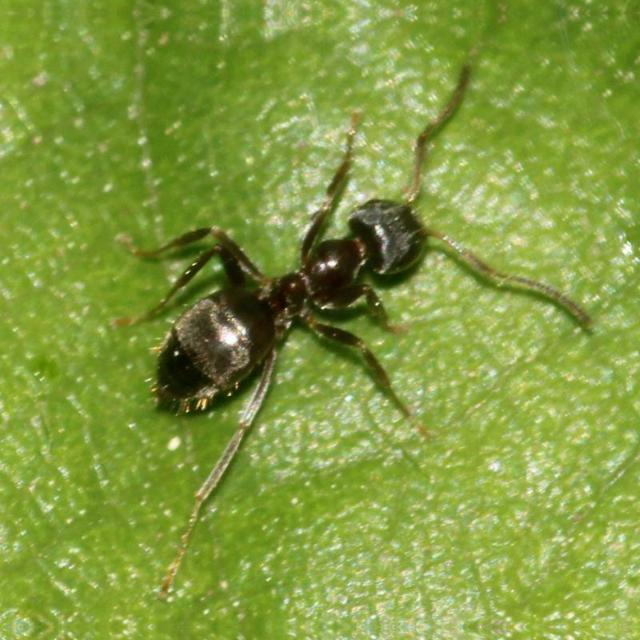Lasius: (102, 132, 482, 416)
